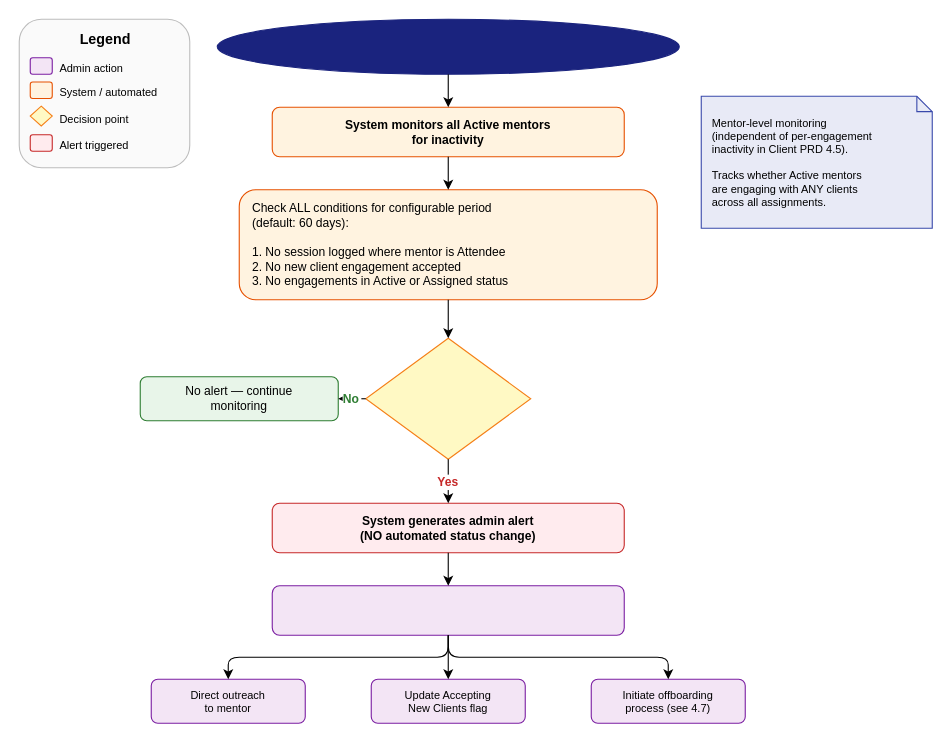
Some shapes in this 952 by 743 pixel diagram are drawn without their labels. Each missing label, with the centre of its shape:
"4.5 — Mentor Inactivity Monitoring" goes at pixel 447 46.
"Admin reviews situation and determines appropriate action" goes at pixel 447 610.
"All conditions met for threshold period?" goes at pixel 448 398.
